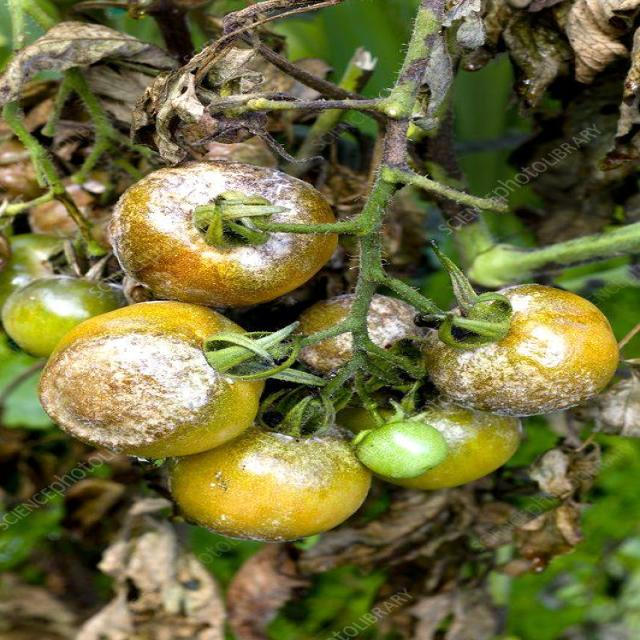Rotten_Tomato: (99, 156, 354, 315), (39, 300, 291, 454), (414, 282, 627, 421)
